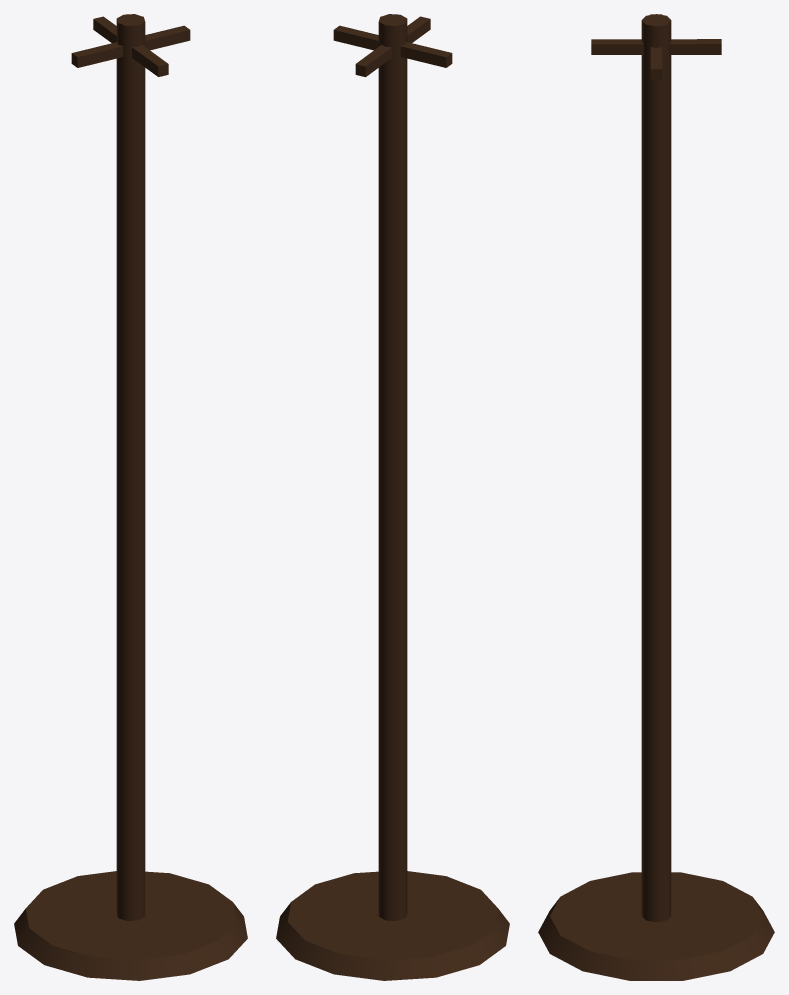
Rendered from coat-rack.obj.
3 renders of one model, left to right at view 1: azimuth 30°, elevation 25°; view 2: azimuth 150°, elevation 25°; view 3: azimuth 270°, elevation 25°, orthographic.
Parts seen in each view (by area): view 1: coat-rack_0, coat-rack_1, coat-rack_4, coat-rack_2, coat-rack_3; view 2: coat-rack_0, coat-rack_1, coat-rack_4, coat-rack_2, coat-rack_5; view 3: coat-rack_0, coat-rack_1, coat-rack_3, coat-rack_5.
Part boxes in pixels (x1,y1,x2,y2): coat-rack_0: (116, 14, 145, 920); coat-rack_1: (14, 871, 247, 980); coat-rack_4: (71, 42, 123, 67); coat-rack_2: (145, 25, 190, 50); coat-rack_3: (132, 45, 168, 76); coat-rack_0: (378, 14, 407, 920); coat-rack_1: (276, 871, 509, 980); coat-rack_4: (400, 42, 452, 67); coat-rack_2: (333, 25, 378, 50); coat-rack_5: (355, 45, 391, 77); coat-rack_0: (641, 14, 671, 922); coat-rack_1: (538, 872, 774, 980); coat-rack_3: (591, 39, 643, 54); coat-rack_5: (669, 39, 721, 54).
Bounding box in the file's own units: 0.39 × 1.7 × 0.4.
